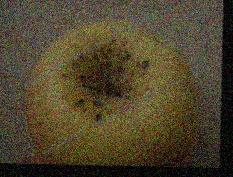rotten apple: (24, 19, 197, 165)
